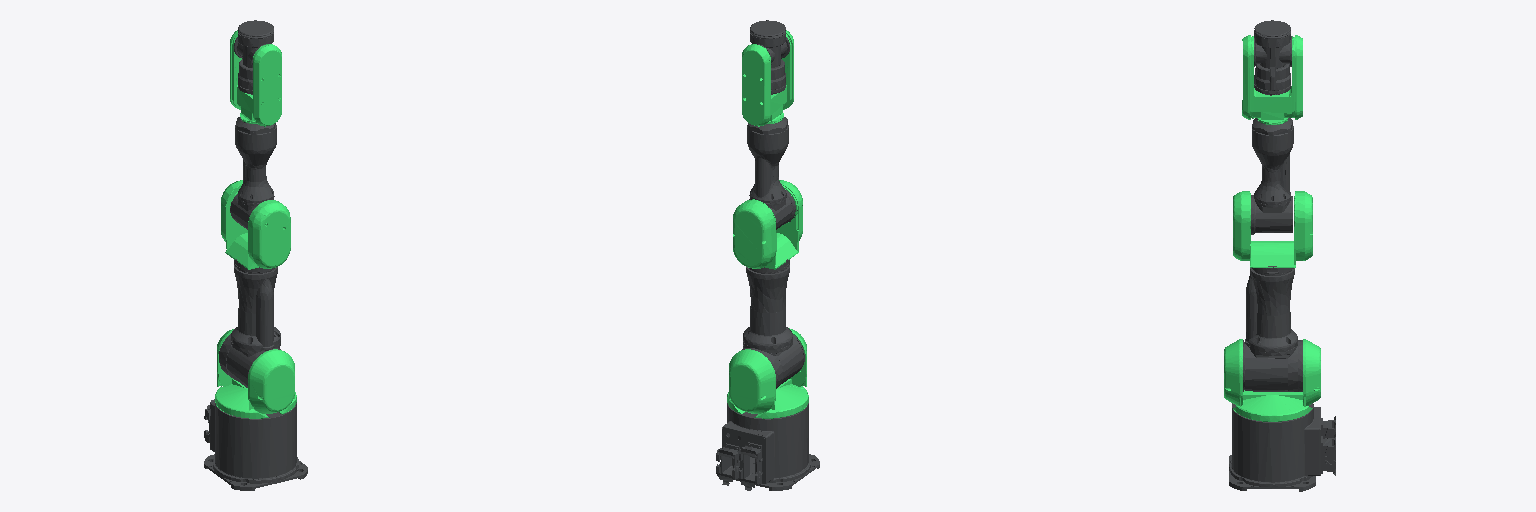
URDF robot description (pa10_csl):
<?xml version="1.0" ?>

<robot name="pa10_csl"  xmlns:xacro="http://www.ros.org/wiki/xacro">

	<!-- LINKS -->

	<link name="world"/>

	<link name="base_link">
		<visual>    
			<origin rpy="0 0 3.14" xyz="0 0 0"/>
      <geometry>
        <mesh filename="package://pa10_description/pa10_stl/S1.stl" scale="1 1 1"/>
      </geometry>
      <material name="">
        <color rgba="0.34 0.35 0.36 1.0"/>
      </material>
    </visual>
		<collision>
      <origin rpy="0 0 3.14" xyz="0 0 0"/>
      <geometry>
        <mesh filename="package://pa10_description/pa10_stl_collision/S1_collision.stl" scale="1 1 1"/>
      </geometry>
    </collision>
    <inertial>
      <origin rpy="0 0 0" xyz="0 0 1"/>
      <mass value="1"/>
      <inertia ixx="1" ixy="0.0" ixz="0.0" iyy="1" iyz="0.0" izz="1"/>
    </inertial>
  </link>

	<link name="soldier_link_1">
    <visual>
      <origin rpy="0 0 0" xyz="0 0 0.117"/>
      <geometry>
        <mesh filename="package://pa10_description/pa10_stl/S2.stl" scale="1 1 1"/>
      </geometry>
      <material name="">
        <color rgba="0.33 0.96 0.53 1.5"/>
      </material>
    </visual>
		<collision>
      <origin rpy="0 0 0" xyz="0 0 0.117"/>
      <geometry>
        <mesh filename="package://pa10_description/pa10_stl_collision/S2_collision.stl" scale="1 1 1"/>
      </geometry>
    </collision>
    <inertial>
      <origin rpy="0 0 0" xyz="0 0 1"/>
      <mass value="1"/>
      <inertia ixx="1" ixy="0.0" ixz="0.0" iyy="1" iyz="0.0" izz="1"/>
    </inertial>
	</link>



	<link name="soldier_link_2">
    <visual>
      <origin rpy="-1.57079 0 3.14159" xyz="0 0 0"/>
      <geometry>
        <mesh filename="package://pa10_description/pa10_stl/S3.stl" scale="1 1 1"/>
      </geometry>
      <material name="">
        <color rgba="0.34 0.35 0.36 1.0"/>
      </material>
    </visual>
    <collision>
      <origin rpy="-1.57079 0 3.14159" xyz="0 0 0"/>
      <geometry>
        <mesh filename="package://pa10_description/pa10_stl_collision/S3_collision.stl" scale="1 1 1"/>
      </geometry>
    </collision>
    <inertial>
      <origin rpy="0 0 0" xyz="0 0 1"/>
      <mass value="1"/>
      <inertia ixx="1" ixy="0.0" ixz="0.0" iyy="1" iyz="0.0" izz="1"/>
    </inertial>
  </link>


	<link name="soldier_to_elbow_link"/>
	


	<link name="elbow_link_1">
    <visual>
      <origin rpy="0 0 0" xyz="0 0.0 0.133"/>
      <geometry>
        <mesh filename="package://pa10_description/pa10_stl/E1.stl" scale="1 1 1"/>
      </geometry>
      <material name="">
        <color rgba="0.33 0.96 0.53 1.5"/>
      </material>
    </visual>
    <collision>
      <origin rpy="0 0 0" xyz="0 0.0 0.133"/>
      <geometry>
        <mesh filename="package://pa10_description/pa10_stl_collision/E1_collision.stl" scale="1 1 1"/>
      </geometry>
    </collision>
    <inertial>
      <origin rpy="0 0 0" xyz="0 0 1"/>
      <mass value="1"/>
      <inertia ixx="1" ixy="0.0" ixz="0.0" iyy="1" iyz="0.0" izz="1"/>
    </inertial>
  </link>


  <link name="elbow_link_2">
    <visual>
      <origin rpy="1.57079 0 0" xyz="0 0.003 0"/>
      <geometry>
        <mesh filename="package://pa10_description/pa10_stl/E2.stl" scale="1 1 1"/>
      </geometry>
      <material name="">
        <color rgba="0.34 0.35 0.36 1.0"/>
      </material>
    </visual>
    <collision>
      <origin rpy="-1.57079 0 0" xyz="0 0.003 0"/>
      <geometry>
        <mesh filename="package://pa10_description/pa10_stl_collision/E2_collision.stl" scale="1 1 1"/>
      </geometry>
    </collision>
    <inertial>
      <origin rpy="0 0 0" xyz="0 0 1"/>
      <mass value="1"/>
      <inertia ixx="1" ixy="0.0" ixz="0.0" iyy="1" iyz="0.0" izz="1"/>
    </inertial>
  </link>


	<link name="wrist_link_1">
    <visual>
      <origin rpy="0 0 0" xyz="0 0 0.195"/>
      <geometry>
        <mesh filename="package://pa10_description/pa10_stl/W1.stl" scale="1 1 1"/>
      </geometry>
      <material name="">
        <color rgba="0.33 0.96 0.53 1.5"/>
      </material>
    </visual>
    <collision>
      <origin rpy="0 0 0" xyz="0 0 0.195"/>
      <geometry>
        <mesh filename="package://pa10_description/pa10_stl_collision/W1_collision.stl" scale="1 1 1"/>
      </geometry>
    </collision>
    <inertial>
      <origin rpy="0 0 0" xyz="0 0 1"/>
      <mass value="1"/>
      <inertia ixx="1" ixy="0.0" ixz="0.0" iyy="1" iyz="0.0" izz="1"/>
    </inertial>
  </link>

	<link name="wrist_link_2">
    <visual>
      <origin rpy="1.57079 0 0" xyz="0 0 0"/>
      <geometry>
        <mesh filename="package://pa10_description/pa10_stl/W2.stl"  scale="1 1 1"/>
      </geometry>
      <material name="">
        <color rgba="0.34 0.35 0.36 1.0"/>
      </material>
    </visual>
    <collision>
      <origin rpy="1.57079 0 0" xyz="0 0 0"/>
      <geometry>
        <mesh filename="package://pa10_description/pa10_stl_collision/W2_collision.stl"  scale="1 1 1"/>
      </geometry>
    </collision>
    <inertial>
      <origin rpy="0 0 0" xyz="0 0 1"/>
      <mass value="1"/>
      <inertia ixx="1" ixy="0.0" ixz="0.0" iyy="1" iyz="0.0" izz="1"/>
    </inertial>
  </link>

	<link name="wrist_link_3"/>



	<!--   JOINTS    -->		


	
	<joint name="fixed" type="fixed">
    <parent link="world"/>
    <child link="base_link"/>
  </joint>

	<joint name="soldier_joint_1" type="revolute">
    <origin rpy="0 0 0" xyz="0 0 0.2"/>
    <parent link="base_link"/>
    <child link="soldier_link_1"/>
    <axis xyz="0 0 1"/>
    <limit effort="0" lower="-3.089" upper="3.089" velocity="1.0"/>
  </joint>

	<joint name="soldier_joint_2" type="revolute">
    <origin rpy="-1.57079 0 0" xyz="0 0 0.117"/>
    <parent link="soldier_link_1"/>
    <child link="soldier_link_2"/>
    <axis xyz="0 0 1"/>
    <limit effort="0" lower="-1.64" upper="1.64" velocity="1.0"/>
  </joint>

	<joint name="soldier_to_elbow_joint" type="fixed">
		<origin rpy="1.57079 0 0" xyz="0 0 0"/>	
		<parent link="soldier_link_2"/>
    <child link="soldier_to_elbow_link"/>
	</joint>

	<joint name="elbow_joint_1" type="revolute">
    <origin rpy="0 0 0" xyz="0 0 0.317"/>
    <parent link="soldier_to_elbow_link"/>
    <child link="elbow_link_1"/>
    <axis xyz="0 0 1"/>
    <limit effort="0" lower="-3.036" upper="3.036" velocity="1.0"/>
  </joint>

	<joint name="elbow_joint_2" type="revolute">
    <origin rpy="-1.57079  0 0" xyz="0 0 0.133"/>
    <parent link="elbow_link_1"/>
    <child link="elbow_link_2"/>
    <axis xyz="0 0 1"/>
    <limit effort="0" lower="-2.39" upper="2.39" velocity="1.0"/>
  </joint>

	<joint name="wrist_joint_1" type="revolute">
    <origin rpy="1.57079 0 0" xyz="0 -0.285 0 "/>
    <parent link="elbow_link_2"/>
    <child link="wrist_link_1"/>
    <axis xyz="0 0 1"/>
    <limit effort="0" lower="-4.45" upper="4.45" velocity="1.0"/>
  </joint>

	<joint name="wrist_joint_2" type="revolute">
    <origin rpy="-1.57079 0 0" xyz="0 0 0.195"/>
    <parent link="wrist_link_1"/>
    <child link="wrist_link_2"/>
    <axis xyz="0 0 1"/>
    <limit effort="0" lower="-2.878" upper="2.878" velocity="1.0"/>
  </joint>

	<joint name="wrist_joint_3" type="revolute">
    <origin rpy="1.57079 0 0" xyz="0 -0.07 0"/>
    <parent link="wrist_link_2"/>
    <child link="wrist_link_3"/>
    <axis xyz="0 0 1"/>
    <limit effort="0" lower="-4.448" upper="4.448" velocity="1.0"/>
  </joint>

</robot>

--- What the picture shows (computed from the rendered views, not written in the file) ---
3 views of the same robot in one strip: view 1: azimuth 30°, elevation 25°; view 2: azimuth 150°, elevation 25°; view 3: azimuth 270°, elevation 25° (orthographic).
Robot: pa10_csl — 10 links, 9 joints (7 revolute, 2 fixed); root link world; default pose: all joints at 0.
Links seen in each view (by area): view 1: base_link, soldier_link_2, soldier_link_1, elbow_link_1, wrist_link_1, elbow_link_2, wrist_link_2; view 2: base_link, soldier_link_2, soldier_link_1, elbow_link_1, wrist_link_1, elbow_link_2, wrist_link_2; view 3: base_link, soldier_link_2, elbow_link_2, soldier_link_1, elbow_link_1, wrist_link_1, wrist_link_2.
Link boxes in pixels (x1,y1,x2,y2): base_link: (204, 399, 307, 490); soldier_link_2: (219, 259, 280, 387); soldier_link_1: (215, 329, 296, 418); elbow_link_1: (221, 180, 290, 269); wrist_link_1: (230, 30, 281, 126); elbow_link_2: (230, 117, 276, 229); wrist_link_2: (234, 20, 273, 94); base_link: (716, 403, 819, 490); soldier_link_2: (742, 259, 804, 388); soldier_link_1: (727, 328, 808, 418); elbow_link_1: (733, 180, 802, 269); wrist_link_1: (742, 30, 793, 126); elbow_link_2: (747, 117, 797, 229); wrist_link_2: (750, 20, 789, 94); base_link: (1229, 403, 1335, 491); soldier_link_2: (1243, 266, 1302, 391); elbow_link_2: (1251, 118, 1293, 234); soldier_link_1: (1224, 339, 1320, 421); elbow_link_1: (1233, 191, 1312, 267); wrist_link_1: (1242, 35, 1302, 124); wrist_link_2: (1254, 20, 1291, 95).
Size in the robot's own frame: 0.2342 by 0.2994 by 1.32 metres.
Meshes: 7 distinct files referenced, 7 mesh visuals loaded (7 binary STL).